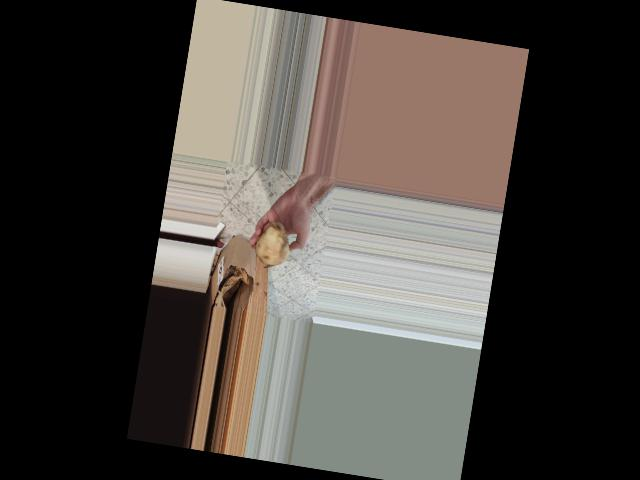onion: (250, 216, 296, 270)
